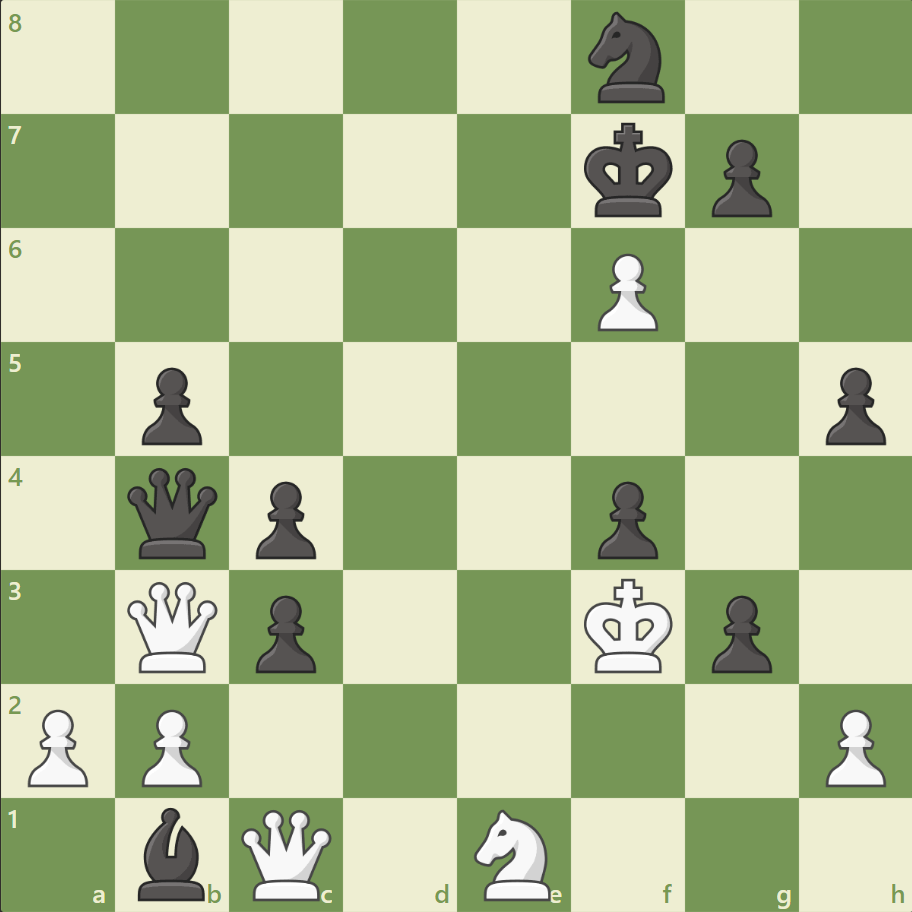K: (579, 571, 679, 679)
N: (465, 802, 562, 904)
P: (20, 700, 95, 791), (133, 700, 208, 791), (588, 246, 662, 337), (815, 700, 889, 791)
Q: (124, 576, 223, 676), (237, 804, 336, 903)
b: (131, 801, 215, 904)
k: (579, 117, 679, 225)
n: (579, 7, 676, 110)
p: (701, 132, 776, 223), (133, 359, 208, 450), (247, 473, 322, 564), (247, 586, 322, 677), (701, 586, 776, 677), (815, 359, 889, 450), (588, 473, 662, 564)
q: (124, 463, 223, 562)
